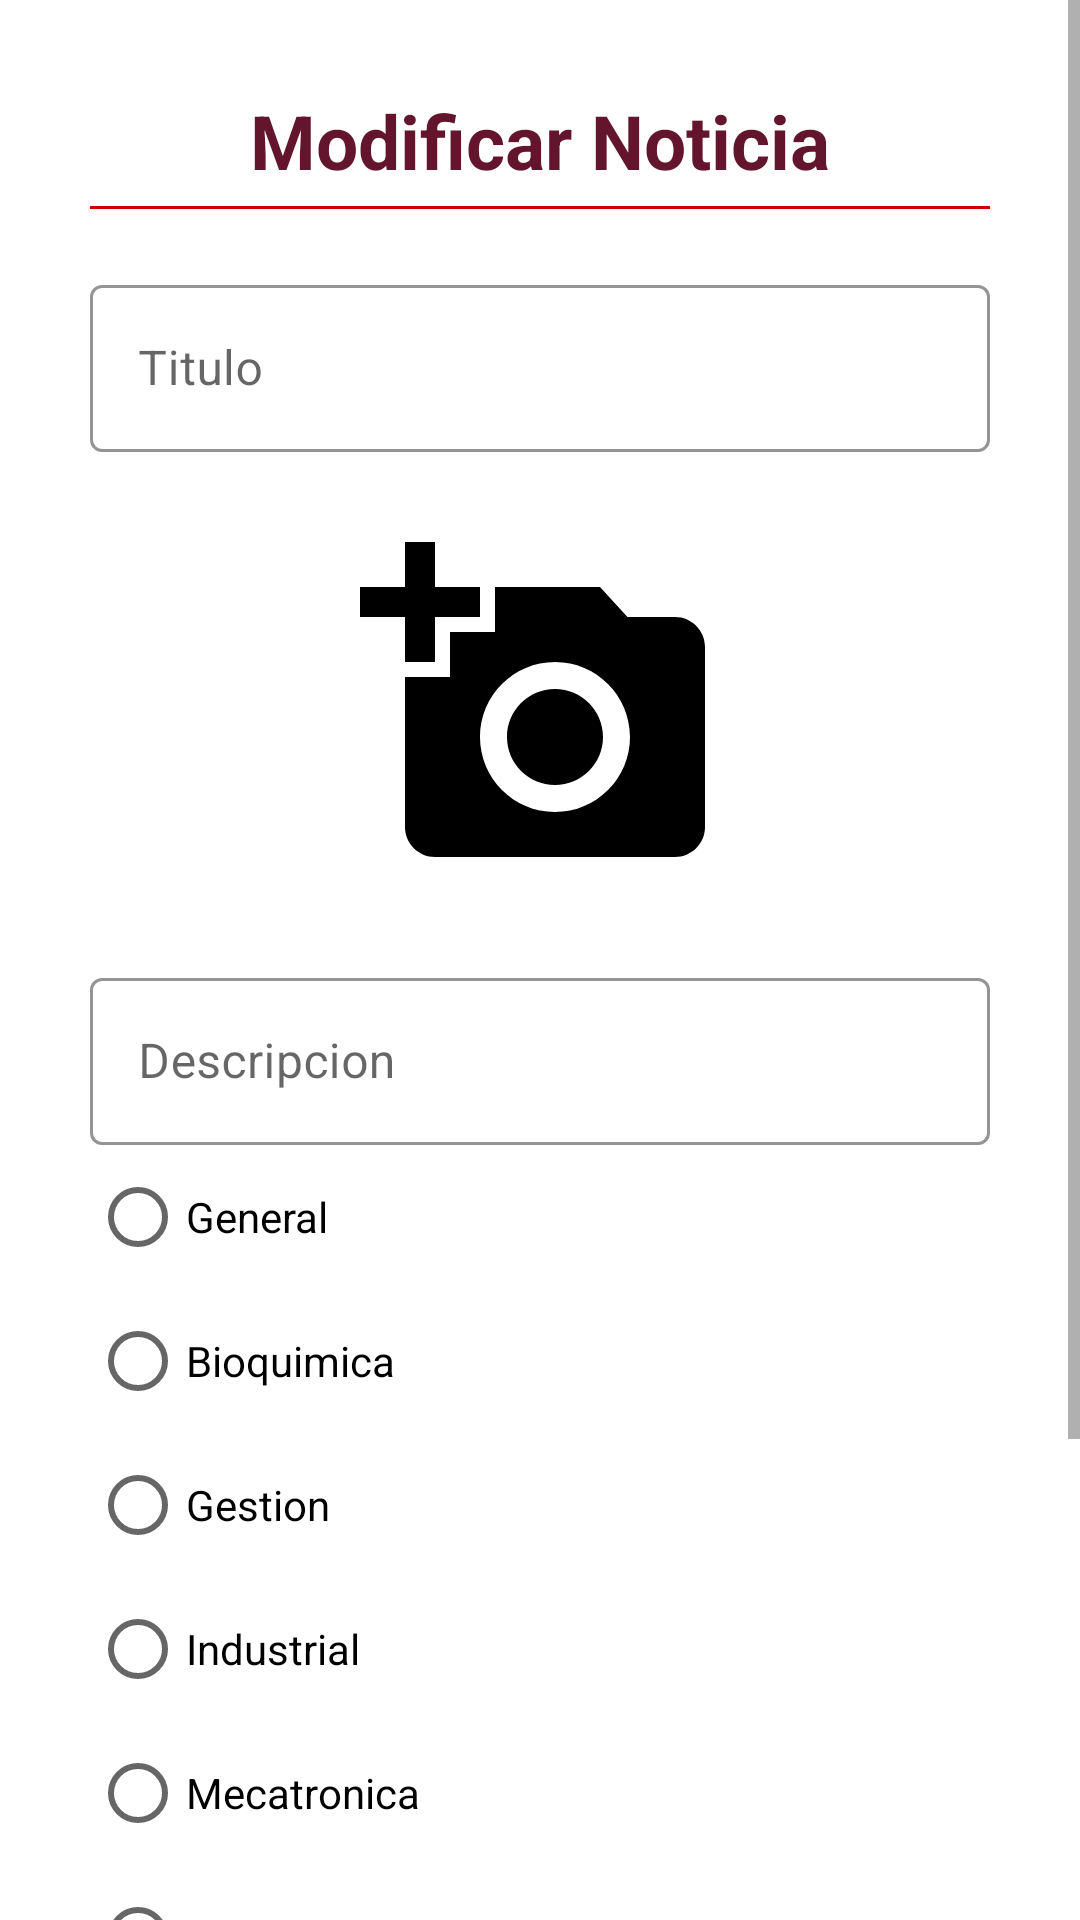

Point at icon controls on the screen. Image size 1080x1920, points as (x,y).
add foto usuario: (532,699)
